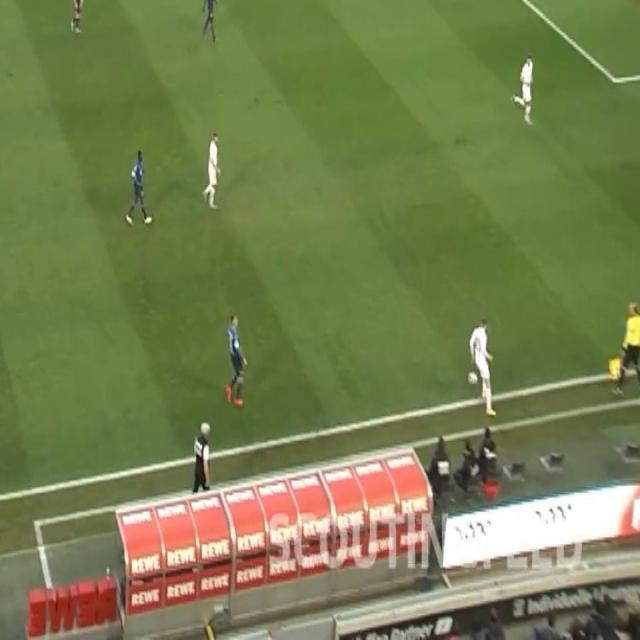ball: (466, 371, 478, 386)
